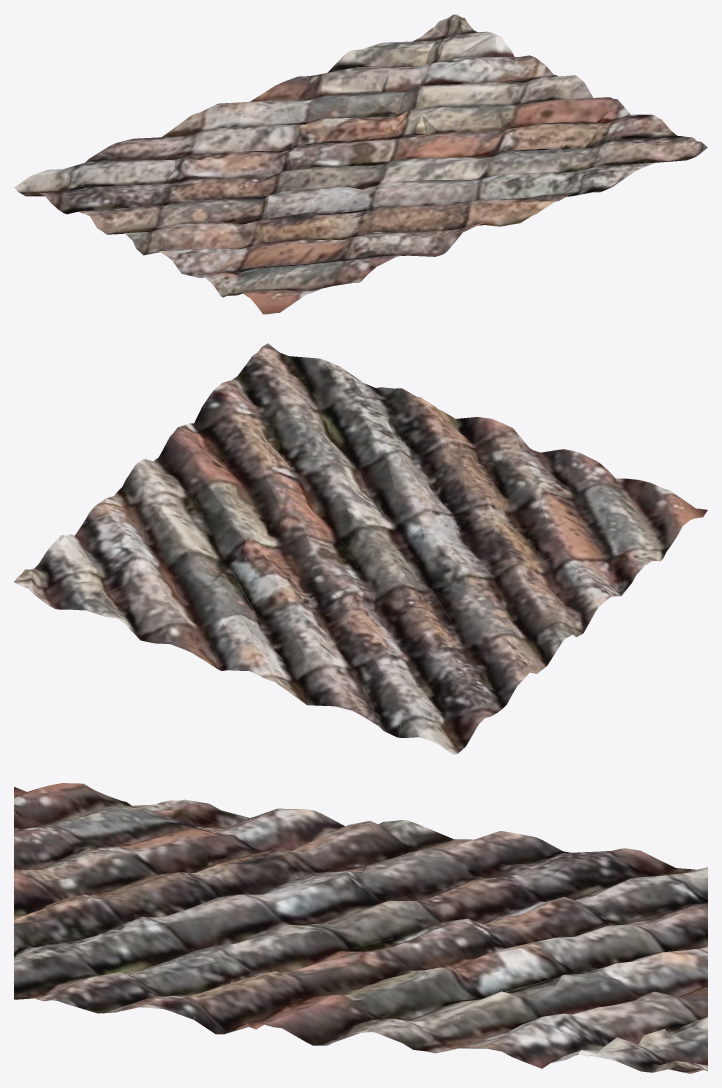
3 renders of one model, top to bottom at view 1: azimuth 30°, elevation 25°; view 2: azimuth 150°, elevation 25°; view 3: azimuth 270°, elevation 25°, orthographic. The views are drawn at different scales.
Size of the model in its own units: 1.67 by 0.44 by 1.67.
3 materials, 3 textured.
